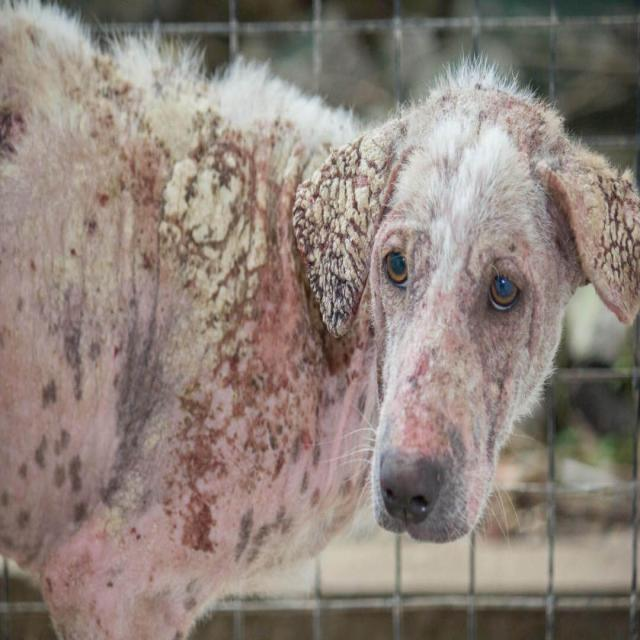mange: (1, 19, 640, 628)
